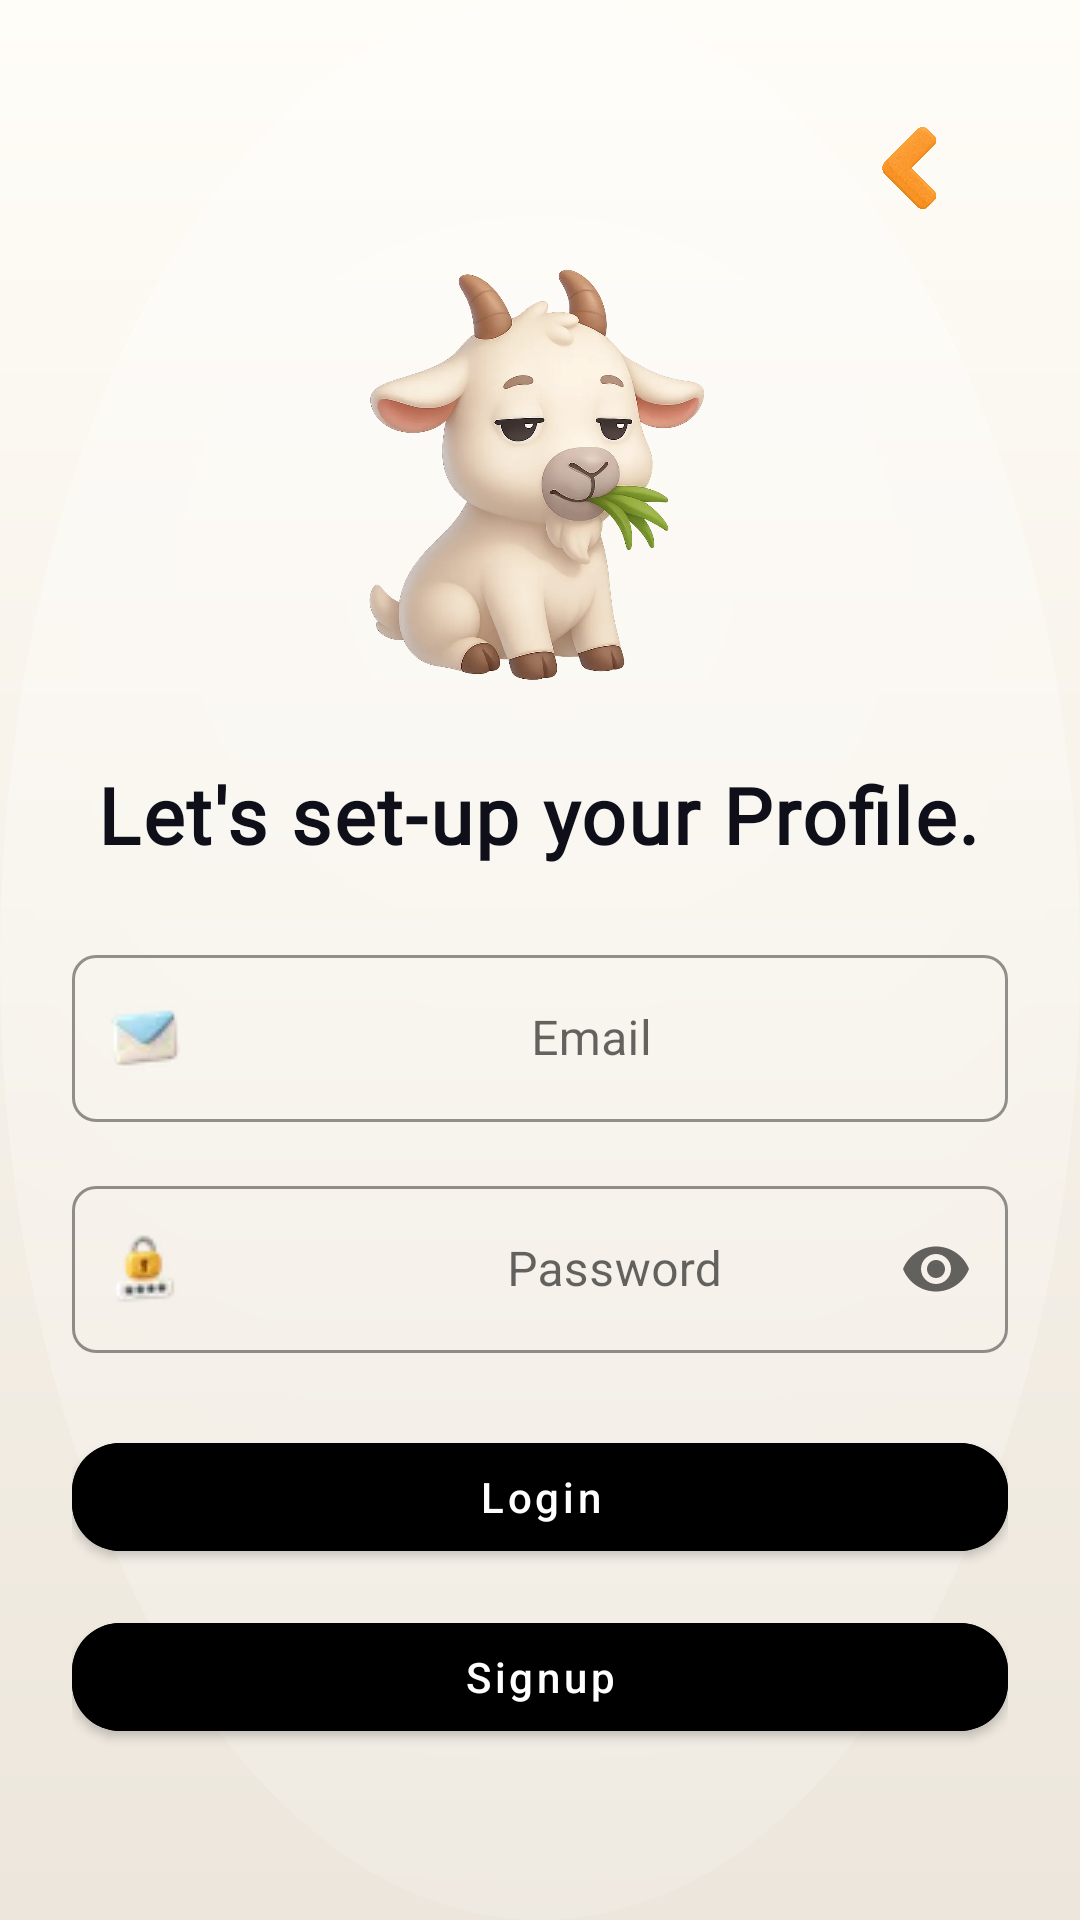

Screen size 1080 x 1920. Icon name, then its box in pixels as (x1, y1, x2, y2):
Back arrow: (882, 127, 936, 209)
